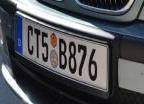5: (41, 31, 49, 62)
6: (88, 48, 98, 82)
7: (77, 43, 87, 77)
8: (68, 41, 77, 75)
B: (58, 38, 67, 70)
C: (26, 25, 34, 54)
T: (34, 27, 40, 59)
